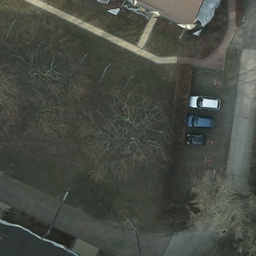car: (188, 92, 222, 109), (184, 116, 217, 131), (184, 133, 215, 144)
